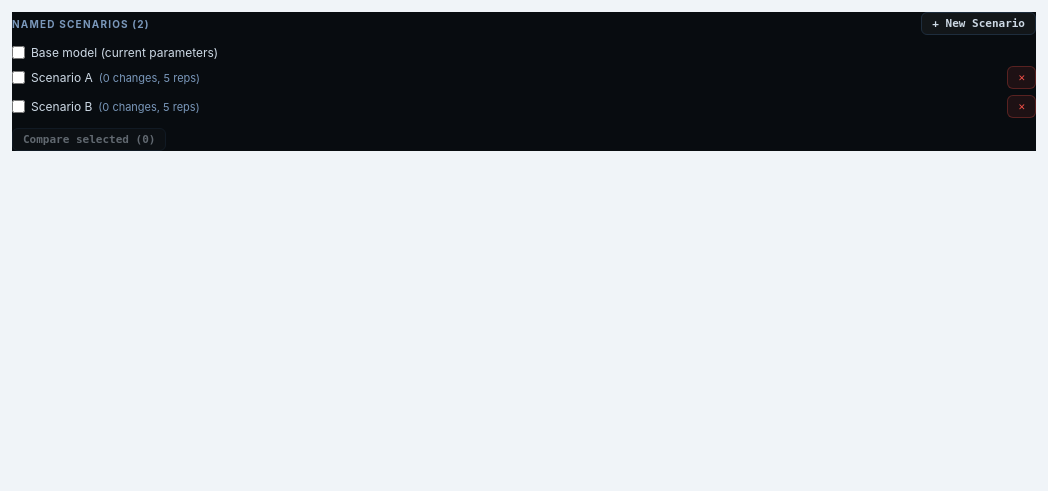
Scenario: ScenarioManagerPanel › compares 3+ selected groups with the ANOVA/Tukey view and shows the metric picker
The width and height of the screenshot is (1048, 491).
expect the text "Scenario A" is shown: met, box [31, 70, 93, 85]
Click the checkbox labelled "Base model (current parameters)" at point(18, 52), box [12, 46, 25, 59]
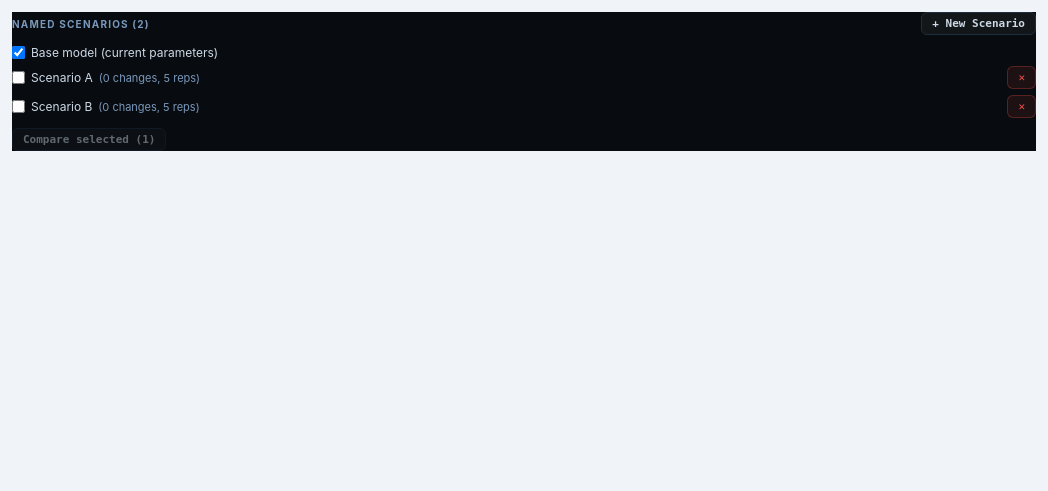
Click the checkbox labelled "Scenario A (0 changes, 5 reps)" at point(18, 78), box [12, 71, 25, 84]
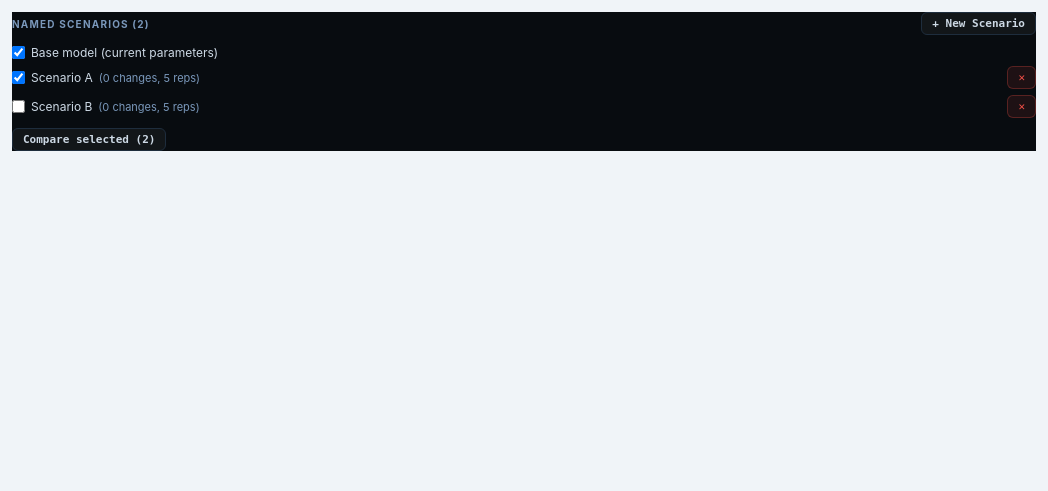
Click the checkbox labelled "Scenario B (0 changes, 5 reps)" at point(18, 106), box [12, 100, 25, 113]
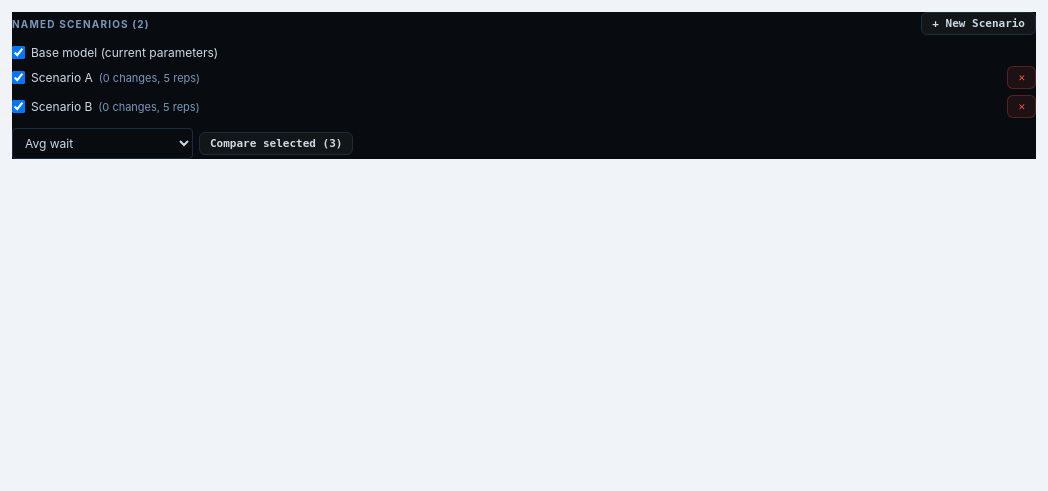
expect the dropdown is shown: met, box [12, 128, 193, 159]
Click the button "Compare selected (3)" at point(276, 144), box [199, 132, 354, 155]
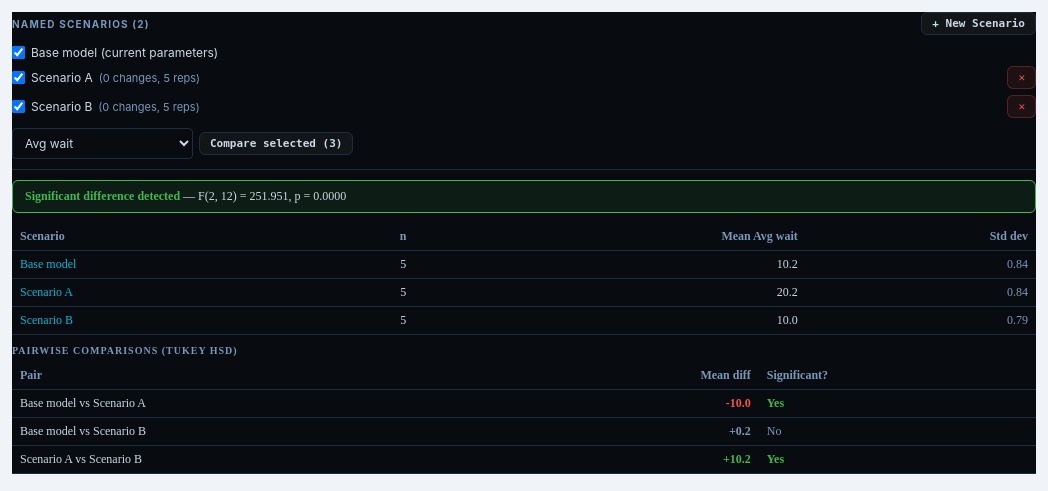
expect the text "PAIRWISE COMPARISONS (TUKEY HSD)" is shown: met, box [12, 345, 238, 356]
